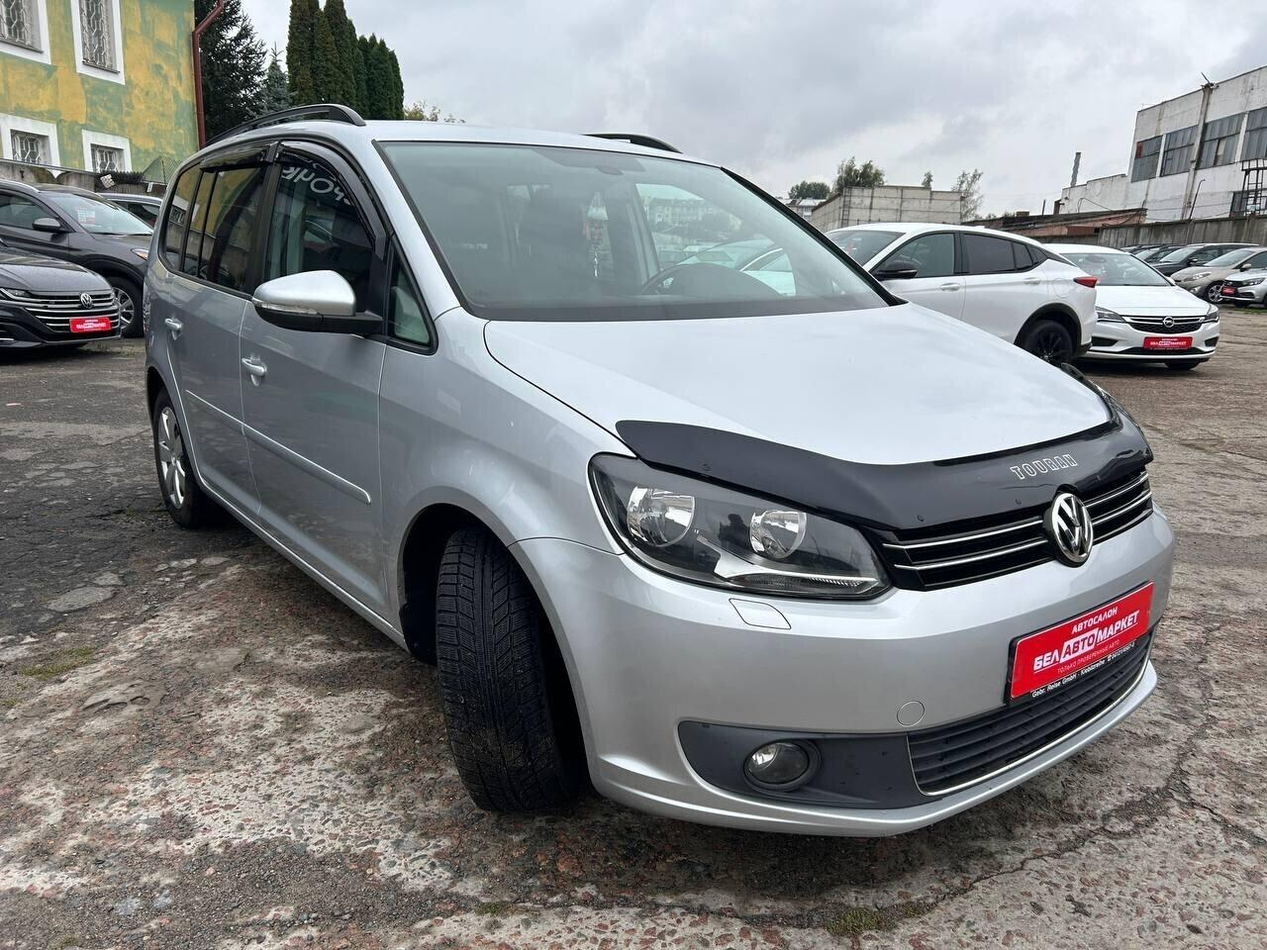Touran_2010-2015: (139, 115, 1168, 849)
